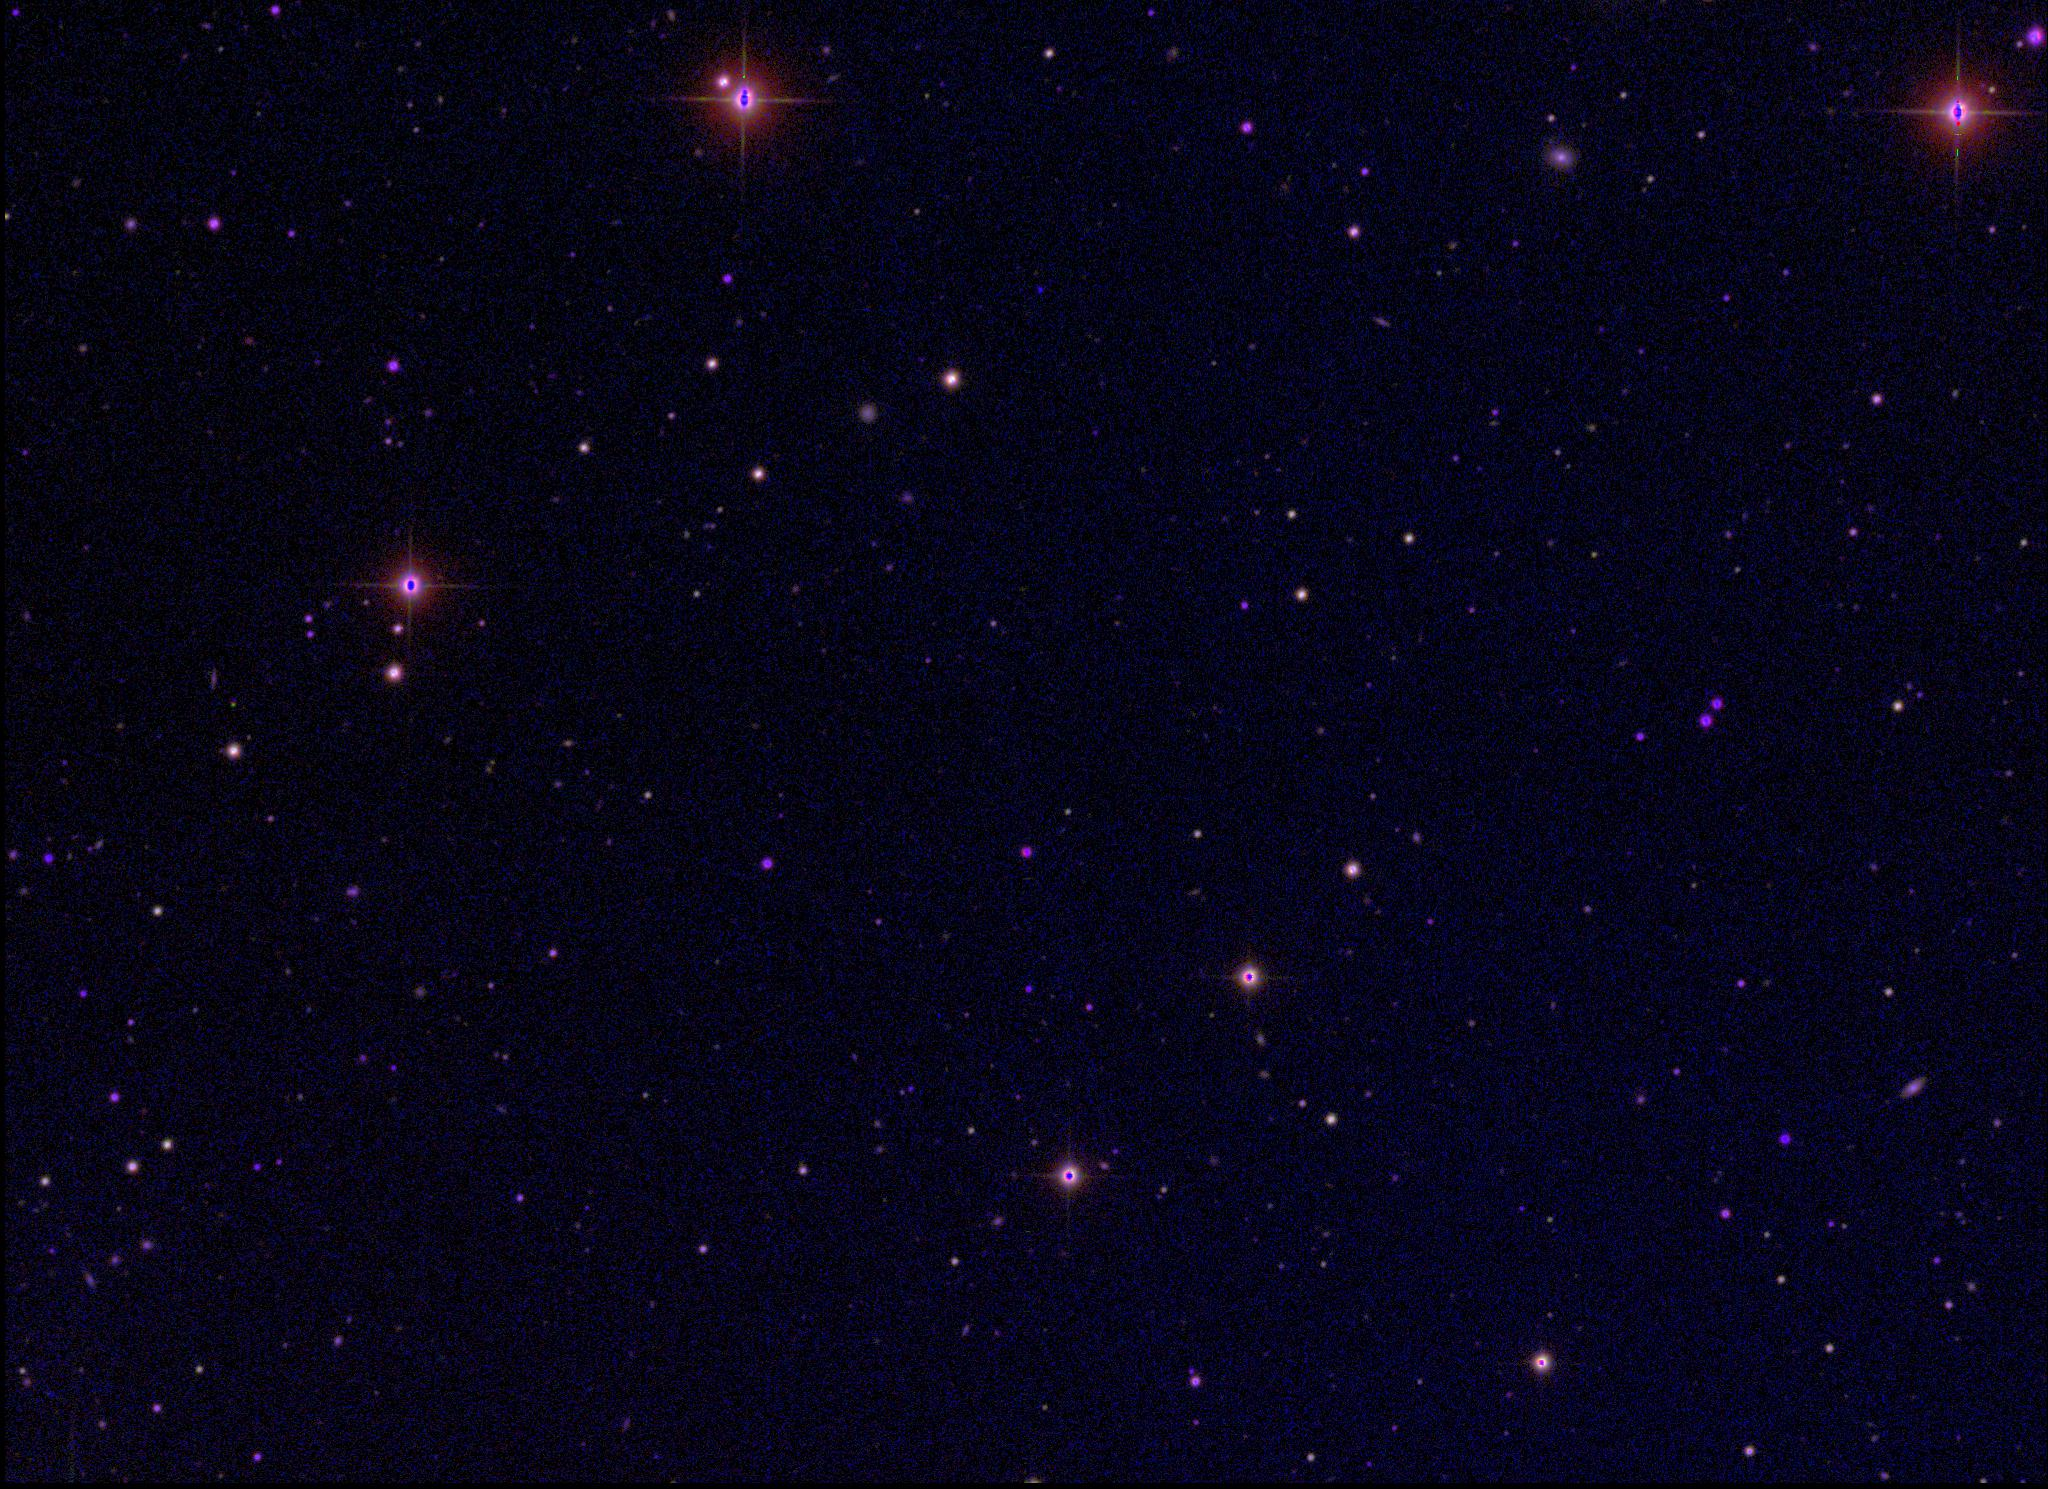L: (1034, 282, 1046, 296)
